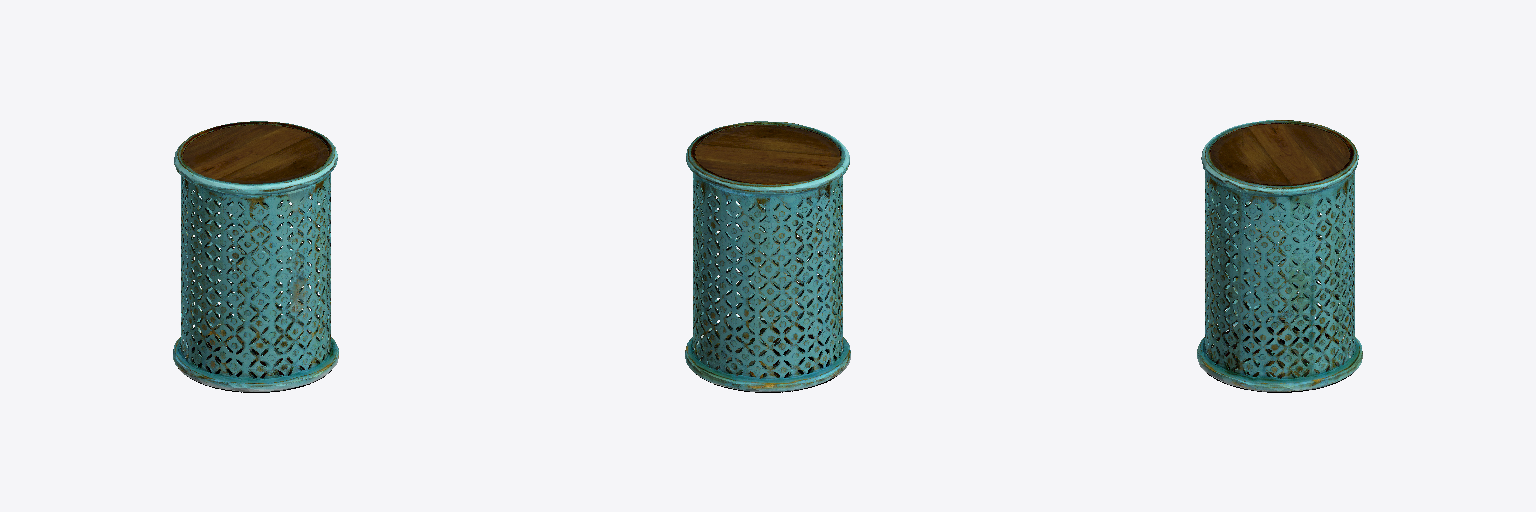
The picture shows the model from 3 angles: view 1: azimuth 30°, elevation 25°; view 2: azimuth 150°, elevation 25°; view 3: azimuth 270°, elevation 25°; orthographic projection.
Visible parts, largest first — view 1: not_clear_obj_0_v6, not_clear_obj_1_v6; view 2: not_clear_obj_0_v6, not_clear_obj_1_v6; view 3: not_clear_obj_0_v6, not_clear_obj_1_v6.
Part boxes in pixels (bbox=[...]): not_clear_obj_0_v6: bbox=[173, 121, 338, 391]; not_clear_obj_1_v6: bbox=[183, 125, 328, 183]; not_clear_obj_0_v6: bbox=[685, 121, 850, 391]; not_clear_obj_1_v6: bbox=[695, 125, 840, 183]; not_clear_obj_0_v6: bbox=[1197, 120, 1362, 391]; not_clear_obj_1_v6: bbox=[1210, 124, 1349, 184].
Size of the model in its own units: 75.72 by 58.96 by 75.72.
Materials: 3 (3 with a texture image).